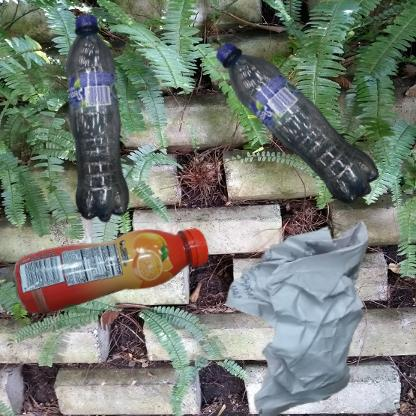botella: (10, 10, 217, 272), (213, 10, 410, 265), (10, 213, 219, 332)
papel: (213, 213, 409, 416)
